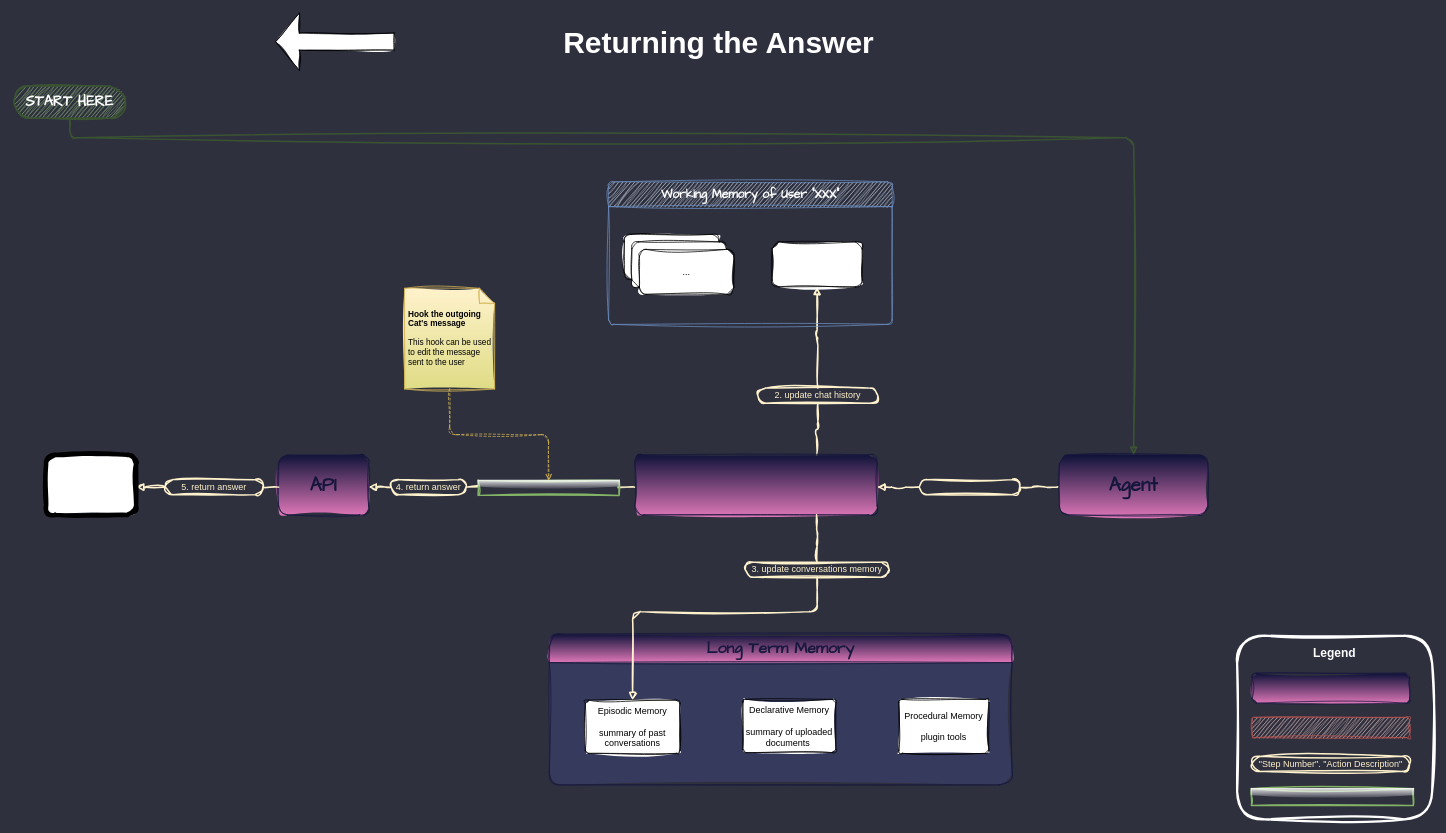
This 1446x833 diagram has some shape labels left out. The centre of each missing label's shape, as x and y in pixels:
1. return answer: (969,486)
BACK: (334,41)
Chat History: (816,264)
Cheshire Cat (the Core): (755,484)
Cheshire Cat Component: (1330,687)
LLM Component: (1330,727)
User: (91,484)
🪝 before_cat_sends_message: (548,487)
🪝 Hook Description: (1332,797)
